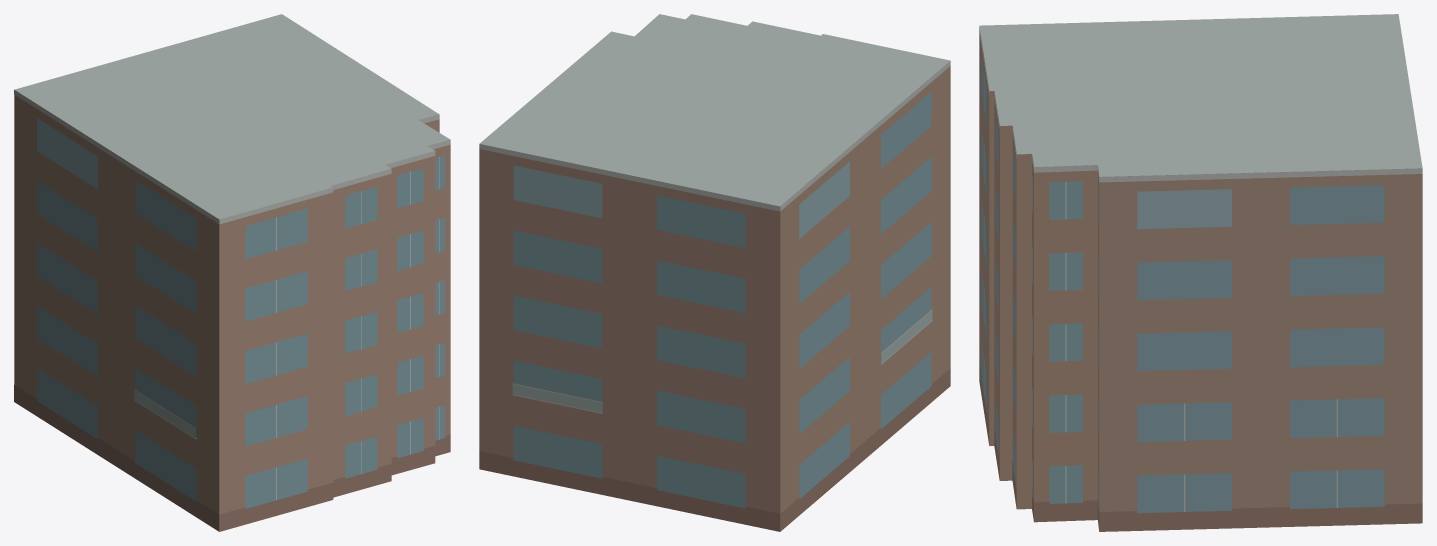
The model's file is survey-upis-32622640.glb.
3 views of the same model, side by side, from view 1: azimuth 30°, elevation 25°; view 2: azimuth 150°, elevation 25°; view 3: azimuth 270°, elevation 25° (orthographic). The views are drawn at different scales.
Visible parts, largest first — view 1: survey-upis-32622640.tmp; view 2: survey-upis-32622640.tmp; view 3: survey-upis-32622640.tmp.
Part boxes in pixels (x1,y1,x2,y2): survey-upis-32622640.tmp: (14, 14, 450, 531); survey-upis-32622640.tmp: (479, 14, 950, 531); survey-upis-32622640.tmp: (979, 14, 1422, 531).
Size of the model in its own units: 15.26 by 15.5 by 17.55.
